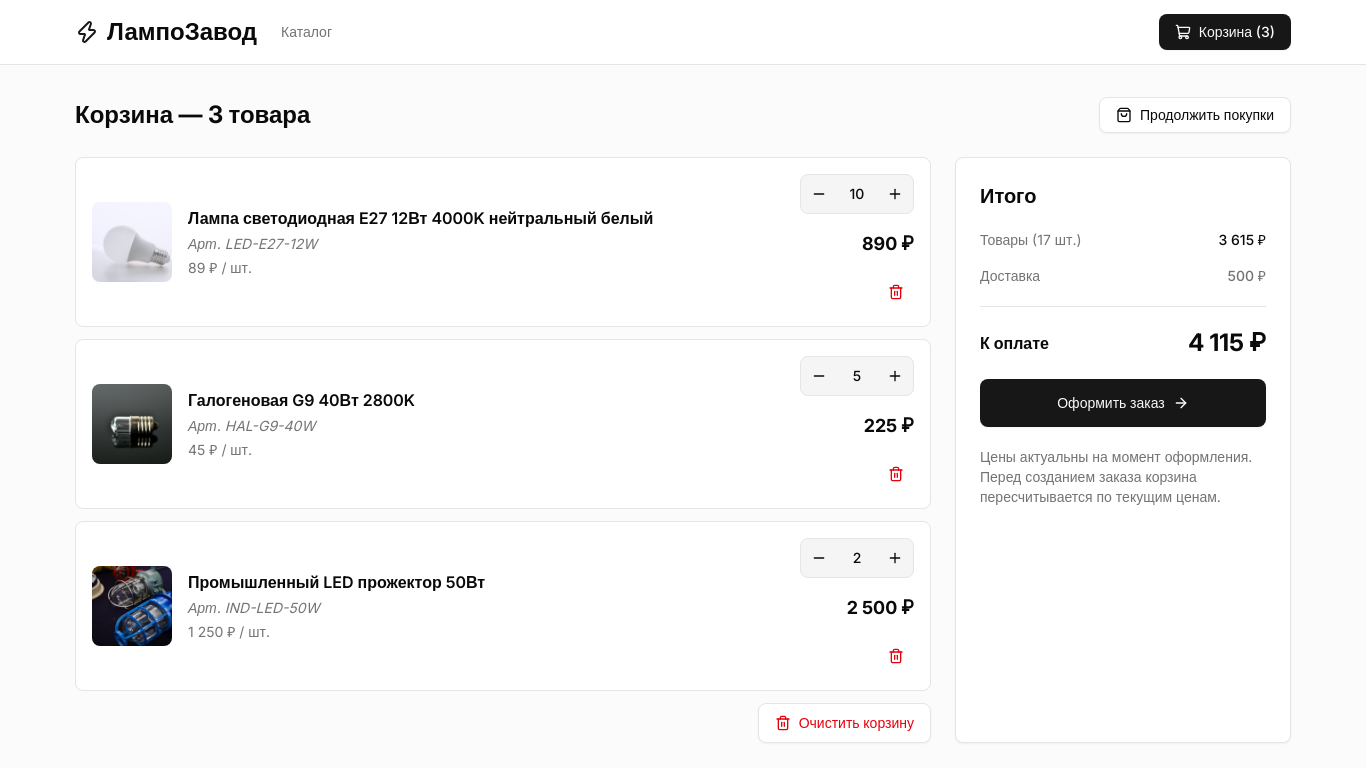
Test: updates the cart and clears it
The image size is (1366, 768).
Click the button named "Увеличить количество" next to "10" at (895, 194), box [877,176,913,212]
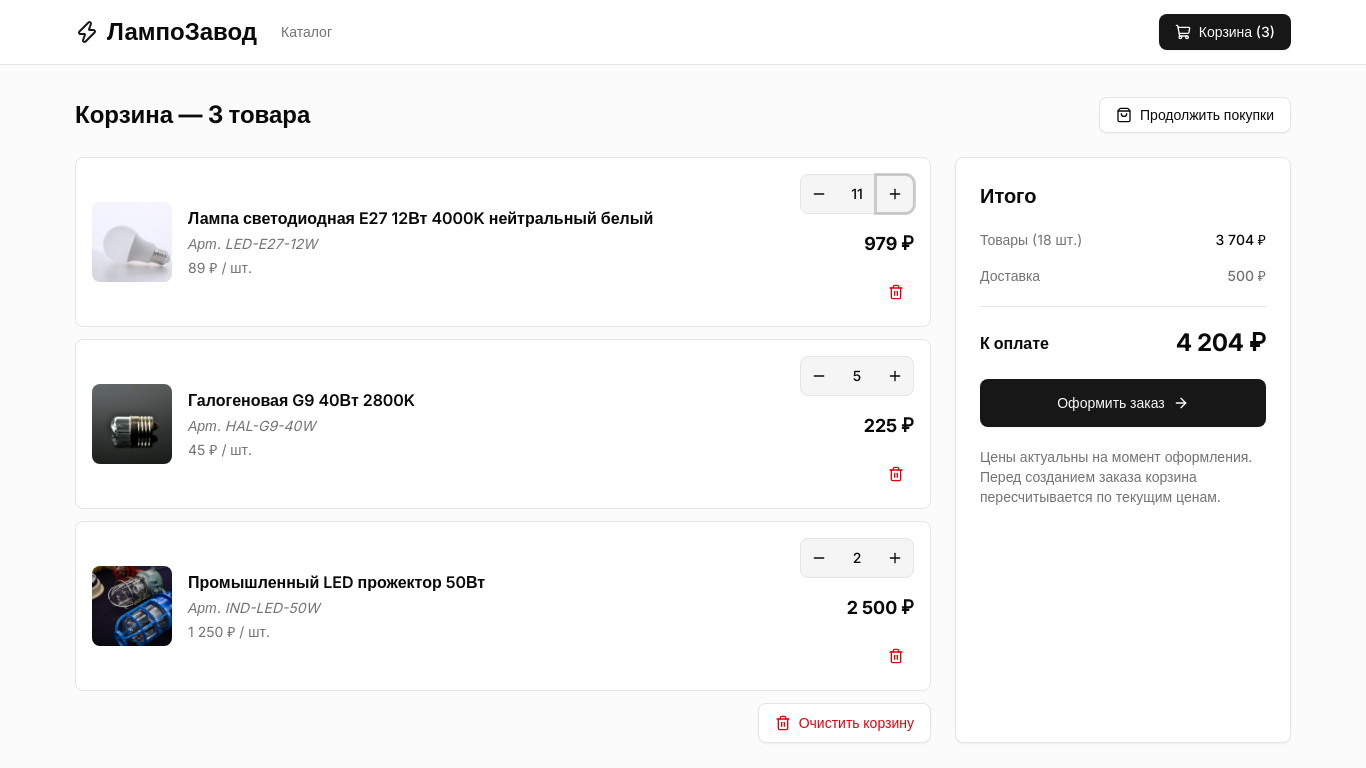
Expected: the text "979 ₽" is shown, [864,230,914,258]
Click the button named "Уменьшить количество" next to "11" at (819, 194), box [801,176,837,212]
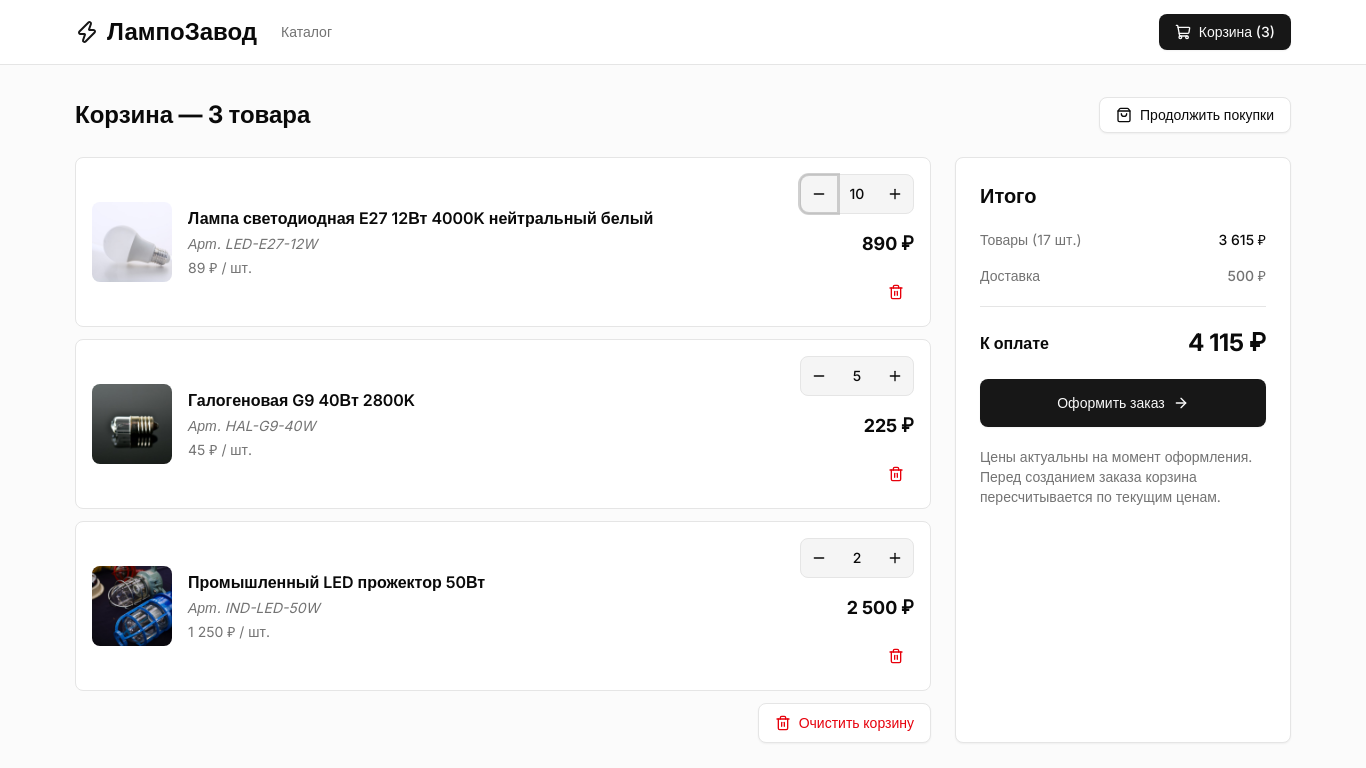
Expected: the text "979 ₽" is gone
Click the button named "Удалить Галогеновая G9 40Вт 2800K" at (896, 474), box [878,456,914,492]
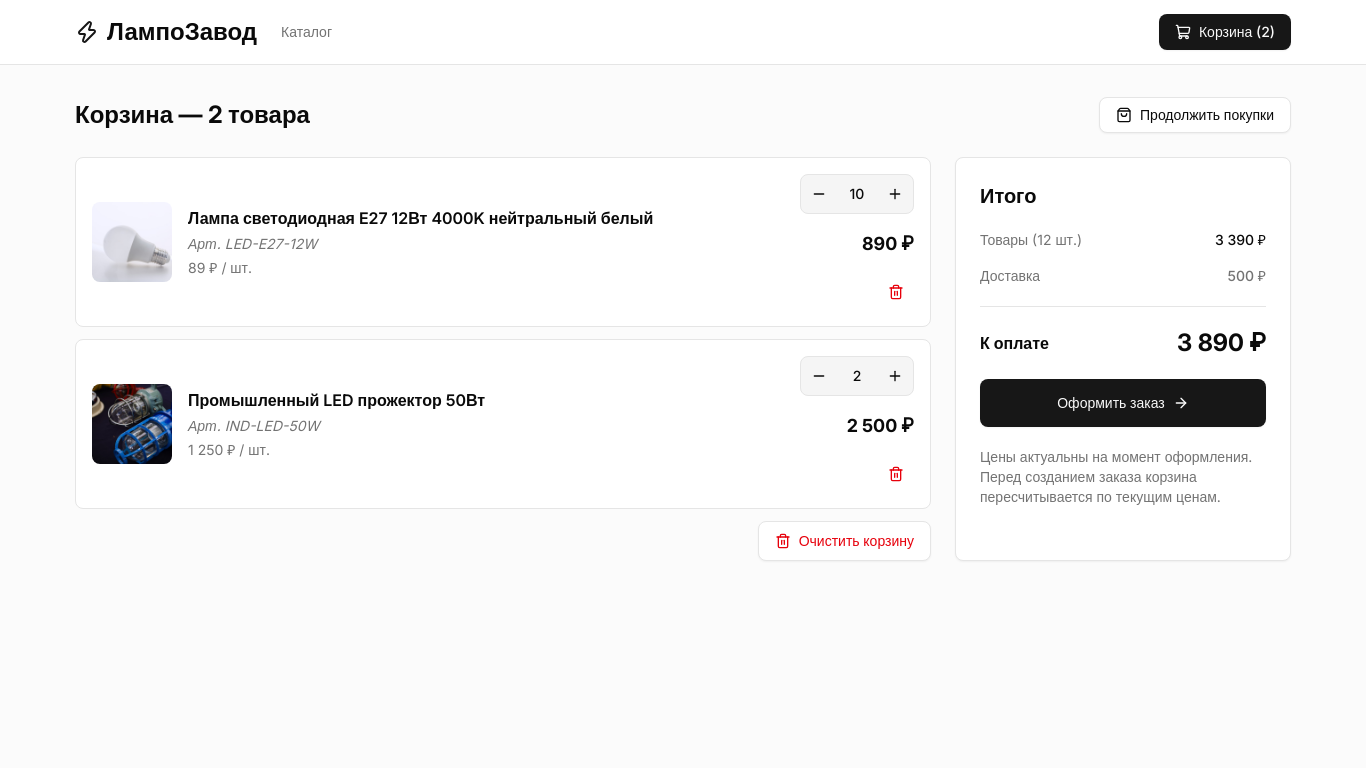
Expected: the heading "Галогеновая G9 40Вт 2800K" is gone
Click the button "Очистить корзину" at (844, 541), box [758,521,931,561]
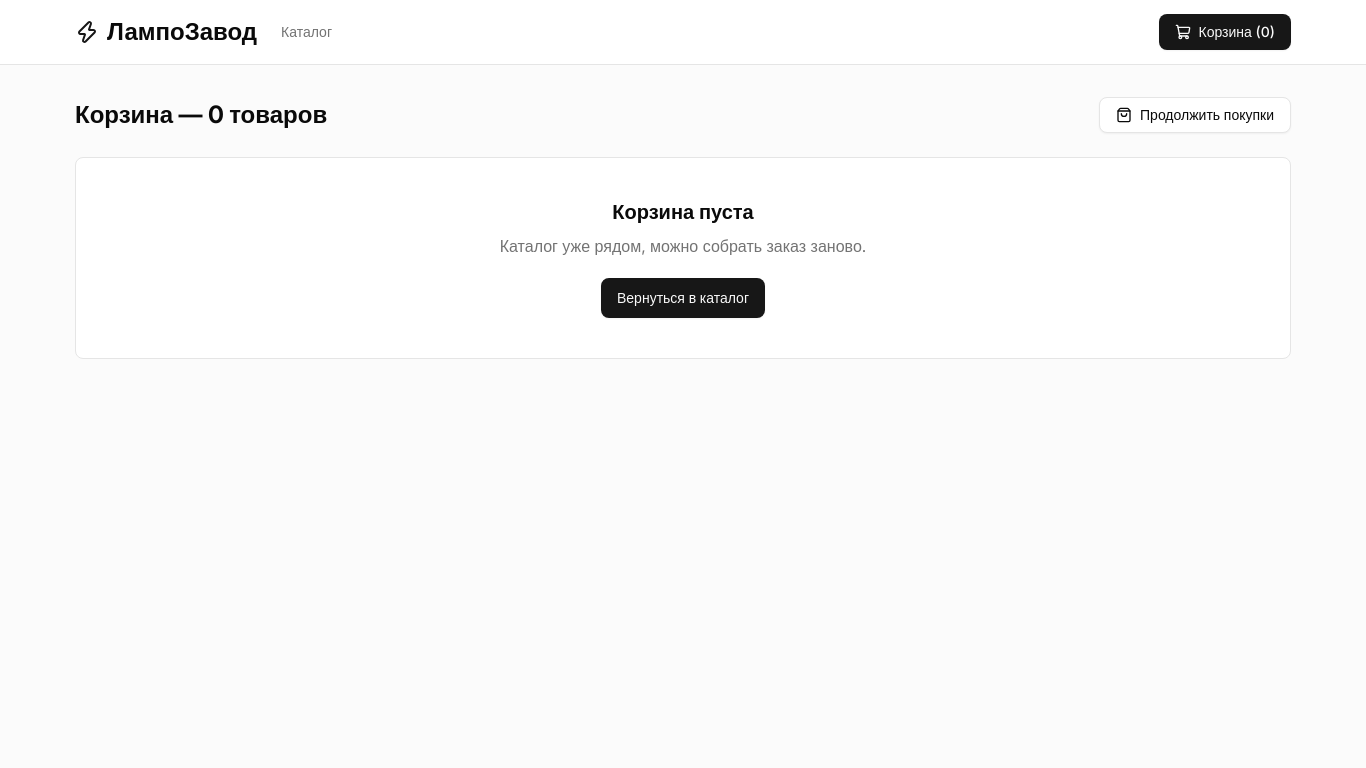
Expected: the heading "Корзина пуста" is shown, [612,200,754,224]
